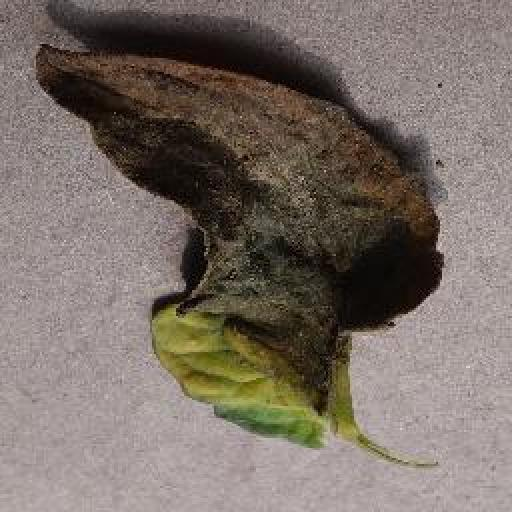disease_tomato: (31, 40, 445, 445)
